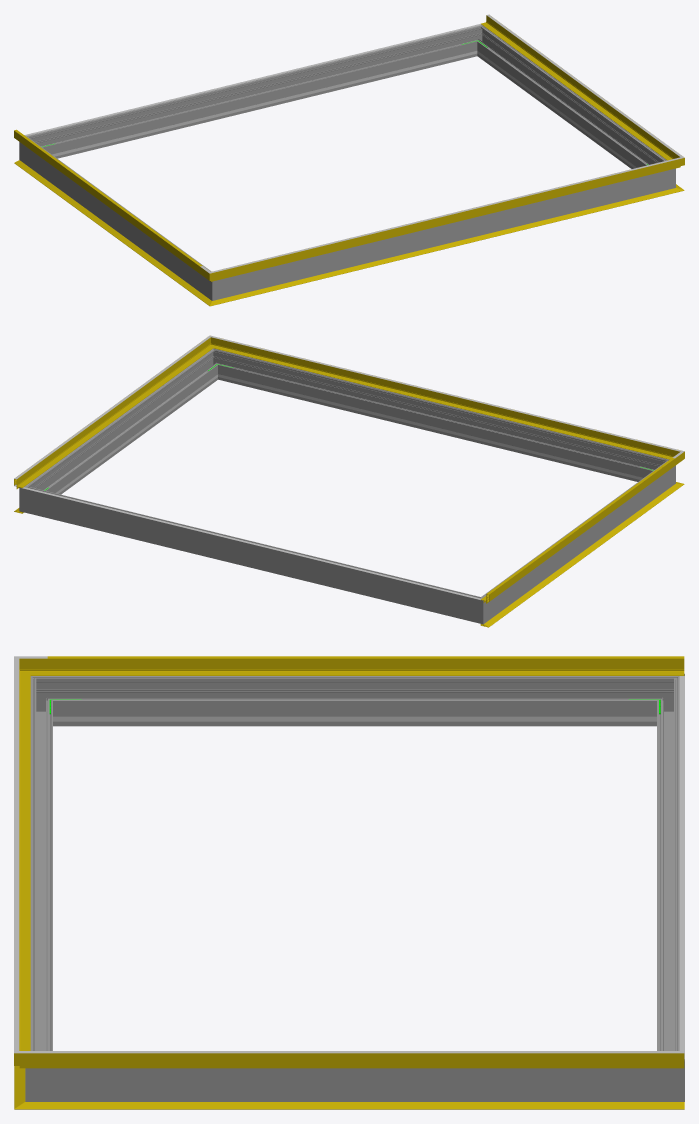
The picture shows the model from 3 angles, top to bottom: view 1: azimuth 30°, elevation 25°; view 2: azimuth 150°, elevation 25°; view 3: azimuth 270°, elevation 25°; orthographic projection. The views are drawn at different scales.
Visible parts, largest first — view 1: 3DGeom-278, 3DGeom-300, 3DGeom-299, 3DGeom-56, 3DGeom-270, 3DGeom-58, 3DGeom-28, 3DGeom-50, 3DGeom-38, 3DGeom-246, 3DGeom-222, 3DGeom-66 (+4 smaller); view 2: 3DGeom-300, 3DGeom-278, 3DGeom-299, 3DGeom-56, 3DGeom-270, 3DGeom-58, 3DGeom-50, 3DGeom-38, 3DGeom-241, 3DGeom-222, 3DGeom-66, 3DGeom-280 (+4 smaller); view 3: 3DGeom-270, 3DGeom-299, 3DGeom-50, 3DGeom-58, 3DGeom-300, 3DGeom-278, 3DGeom-30, 3DGeom-56, 3DGeom-234, 3DGeom-222, 3DGeom-66, 3DGeom-71 (+5 smaller).
Boxes of the visible parts, left/top/right/bottom form: 3DGeom-278: left=38, top=28, right=474, bottom=158; 3DGeom-300: left=229, top=172, right=658, bottom=296; 3DGeom-299: left=479, top=31, right=662, bottom=168; 3DGeom-56: left=225, top=162, right=667, bottom=278; 3DGeom-270: left=29, top=142, right=207, bottom=293; 3DGeom-58: left=481, top=15, right=672, bottom=159; 3DGeom-28: left=224, top=190, right=667, bottom=302; 3DGeom-50: left=14, top=130, right=199, bottom=273; 3DGeom-38: left=14, top=160, right=204, bottom=298; 3DGeom-246: left=58, top=54, right=460, bottom=155; 3DGeom-222: left=24, top=24, right=481, bottom=136; 3DGeom-66: left=225, top=161, right=667, bottom=269; 3DGeom-300: left=221, top=352, right=657, bottom=481; 3DGeom-278: left=36, top=489, right=468, bottom=619; 3DGeom-299: left=32, top=354, right=216, bottom=494; 3DGeom-56: left=222, top=340, right=666, bottom=457; 3DGeom-270: left=488, top=465, right=666, bottom=616; 3DGeom-58: left=14, top=343, right=207, bottom=488; 3DGeom-50: left=481, top=458, right=675, bottom=603; 3DGeom-38: left=480, top=488, right=674, bottom=627; 3DGeom-241: left=234, top=378, right=637, bottom=478; 3DGeom-222: left=22, top=487, right=481, bottom=599; 3DGeom-66: left=225, top=339, right=667, bottom=448; 3DGeom-280: left=466, top=592, right=493, bottom=624; 3DGeom-270: left=58, top=676, right=651, bottom=726; 3DGeom-299: left=58, top=1068, right=651, bottom=1101; 3DGeom-50: left=47, top=658, right=684, bottom=675; 3DGeom-58: left=47, top=1053, right=684, bottom=1068; 3DGeom-300: left=30, top=688, right=52, bottom=1050; 3DGeom-278: left=657, top=688, right=679, bottom=1050; 3DGeom-30: left=48, top=1102, right=684, bottom=1109; 3DGeom-56: left=19, top=671, right=30, bottom=1050; 3DGeom-234: left=85, top=716, right=624, bottom=721; 3DGeom-222: left=679, top=676, right=684, bottom=1059; 3DGeom-66: left=14, top=670, right=19, bottom=1039; 3DGeom-71: left=47, top=656, right=684, bottom=658.
Size of the model in its own units: 4.27 by 0.2831 by 3.05.
